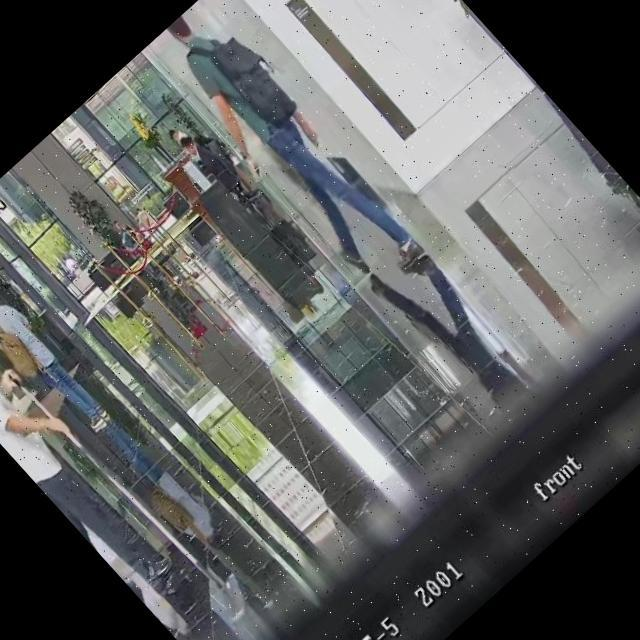person: (142, 0, 429, 300), (0, 295, 200, 614), (0, 273, 112, 438), (177, 126, 253, 208), (164, 122, 202, 160), (104, 213, 140, 250), (60, 250, 85, 276), (54, 260, 74, 282)
